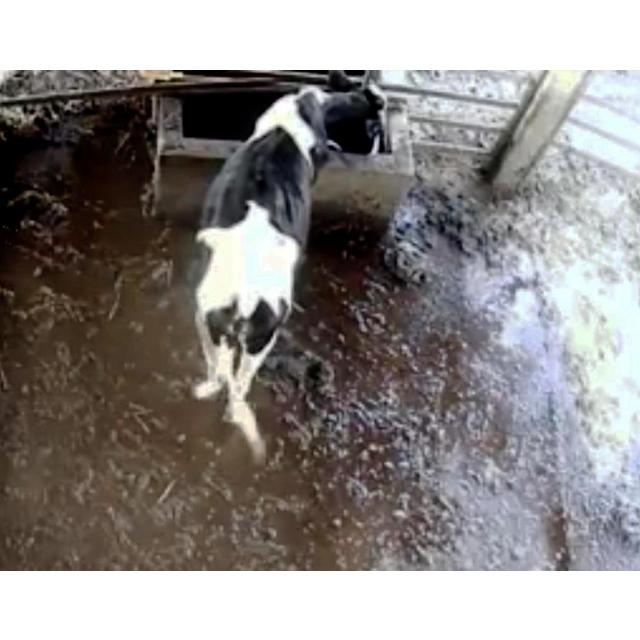drink: (233, 69, 411, 209)
